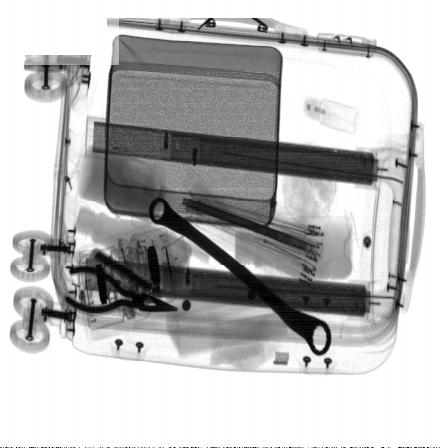Pliers: (63, 265, 179, 315)
Powerbank: (87, 246, 158, 298)
Wrench: (147, 195, 331, 359)
